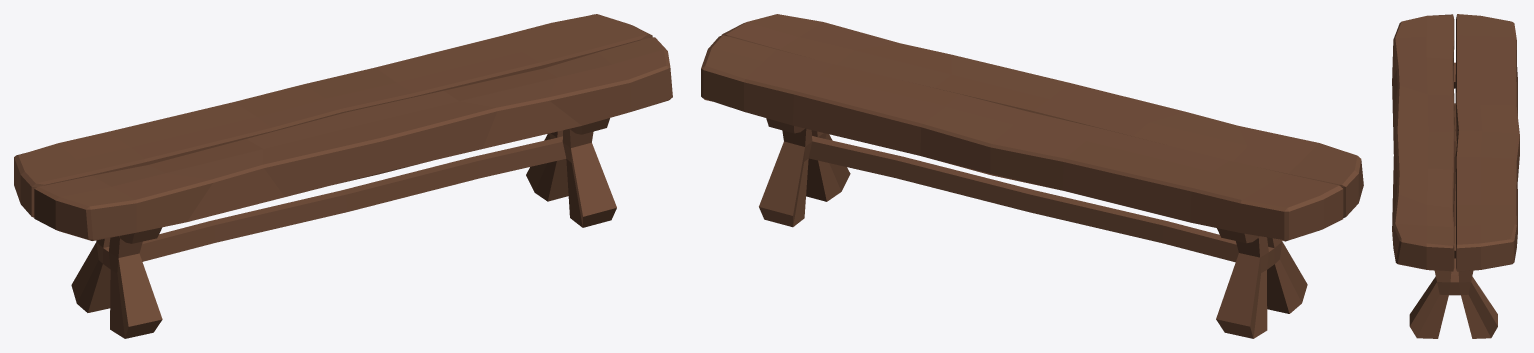
File: WoodenBench.fbx
The picture shows the model from 3 angles, left to right: view 1: azimuth 30°, elevation 25°; view 2: azimuth 150°, elevation 25°; view 3: azimuth 270°, elevation 25°; orthographic projection. The views are drawn at different scales.
Parts seen in each view (by area): view 1: WoodenBench; view 2: WoodenBench; view 3: WoodenBench.
Boxes of the visible parts, box(x1,y1,x2,y2) form: WoodenBench: box(14, 14, 672, 338); WoodenBench: box(701, 14, 1363, 338); WoodenBench: box(1392, 14, 1519, 338).
Bounding box in the file's own units: 284 × 66.73 × 65.56.
1 material, 1 textured.
